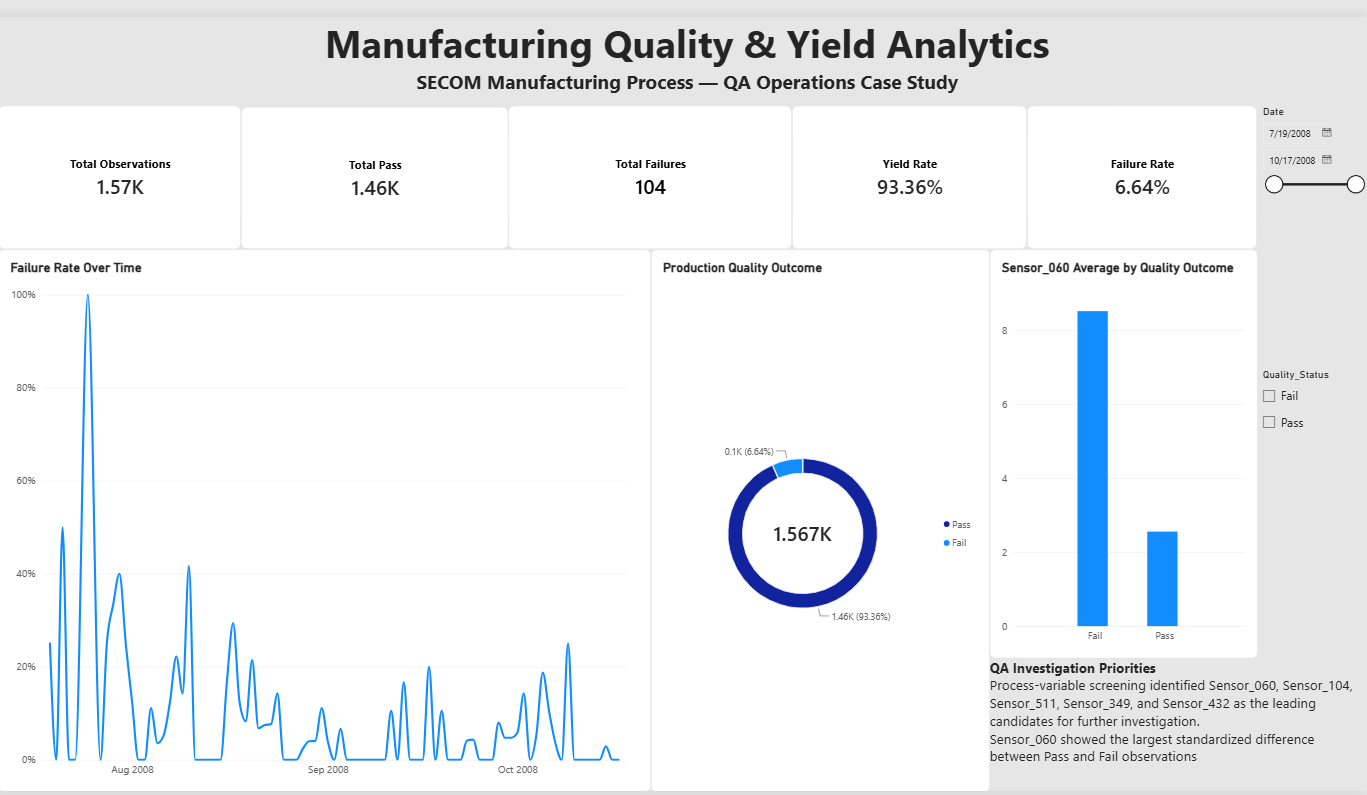

This screenshot's page, from the dashboard's own definition file:
{"tool":"powerbi","page":{"name":"Quality Overview","canvas":[1920,1080],"ordinal":0},"visuals":[{"type":"cardVisual","fields":{"Data":["powerbi_quality_data.Total Observations"]},"box":[10.5,123.8,338.4,200.6],"z":0},{"type":"cardVisual","fields":{"Data":["powerbi_quality_data.Total Failures"]},"box":[722.1,123.8,395.9,200.6],"z":1},{"type":"cardVisual","fields":{"Data":["powerbi_quality_data.Yield Rate"]},"box":[1118,123.8,327.9,200.6],"z":2},{"type":"cardVisual","fields":{"Data":["powerbi_quality_data.Failure Rate"]},"box":[1445.9,123.8,320.9,200.6],"z":3},{"type":"cardVisual","fields":{"Data":["powerbi_quality_data.Total Pass"]},"box":[348.8,125.6,373.3,198.8],"z":4},{"type":"lineChart","title":"Failure Rate Over Time","fields":{"Category":["powerbi_quality_data.Date"],"Y":["powerbi_quality_data.Failure Rate"]},"box":[10.5,324.4,910.5,757],"z":5},{"type":"donutChart","title":"Production Quality Outcome","fields":{"Category":["powerbi_quality_data.Quality_Status"],"Y":["CountNonNull(powerbi_quality_data.Quality_Status)"]},"box":[920.9,324.4,472.7,757],"z":6},{"type":"clusteredColumnChart","title":"Sensor_060 Average by Quality Outcome","fields":{"Category":["powerbi_quality_data.Quality_Status"],"Y":["Avg(powerbi_quality_data.Sensor_060)"]},"box":[1393.6,324.4,373.3,570.4],"z":7},{"type":"textbox","box":[1393,895,527,185],"z":8},{"type":"textbox","box":[373.3,0,1196.5,123.8],"z":9},{"type":"slicer","fields":{"Values":["powerbi_quality_data.Date"]},"box":[1766.9,123.8,153.5,366.3],"z":10},{"type":"slicer","fields":{"Values":["powerbi_quality_data.Quality_Status"]},"box":[1766.9,490.1,153.5,404.7],"z":11}]}

Visuals, with their boxes on the page's 1920x1080 design canvas (x1, y1, x2, y2). These are canvas units, not pixel positions in the 1367x795 screenshot, which may show the page scaled, cropped or inside an application window:
cardVisual - powerbi_quality_data.Total Observations: (10,124,349,324)
cardVisual - powerbi_quality_data.Total Failures: (722,124,1118,324)
cardVisual - powerbi_quality_data.Yield Rate: (1118,124,1446,324)
cardVisual - powerbi_quality_data.Failure Rate: (1446,124,1767,324)
cardVisual - powerbi_quality_data.Total Pass: (349,126,722,324)
"Failure Rate Over Time" lineChart: (10,324,921,1081)
"Production Quality Outcome" donutChart: (921,324,1394,1081)
"Sensor_060 Average by Quality Outcome" clusteredColumnChart: (1394,324,1767,895)
textbox: (1393,895,1920,1080)
textbox: (373,0,1570,124)
slicer - powerbi_quality_data.Date: (1767,124,1920,490)
slicer - powerbi_quality_data.Quality_Status: (1767,490,1920,895)
